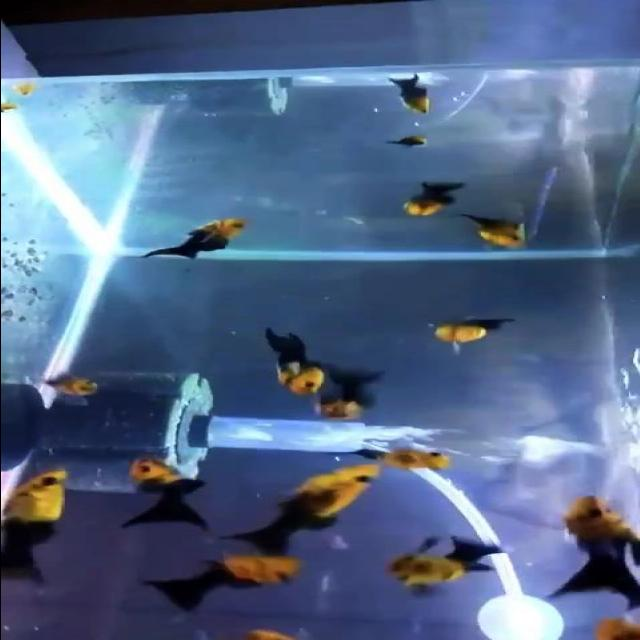PlatyFish: (206, 462, 394, 566), (526, 492, 640, 616), (0, 458, 86, 598)
